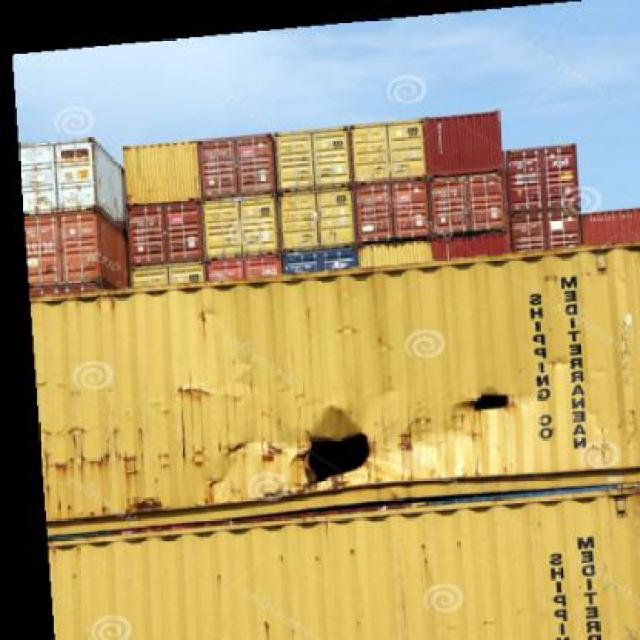hole: (278, 400, 399, 494), (451, 380, 515, 449)
